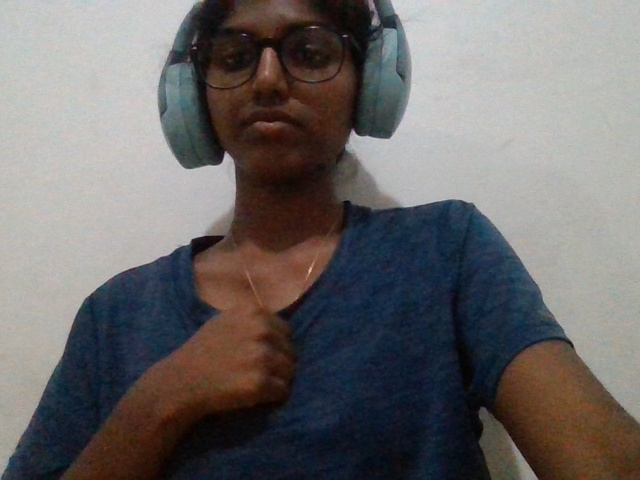Sorry: (116, 290, 352, 456)
